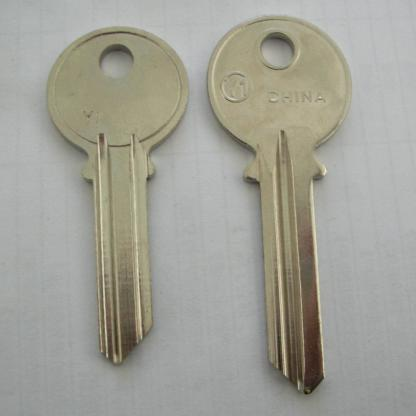key: (46, 16, 340, 392)
